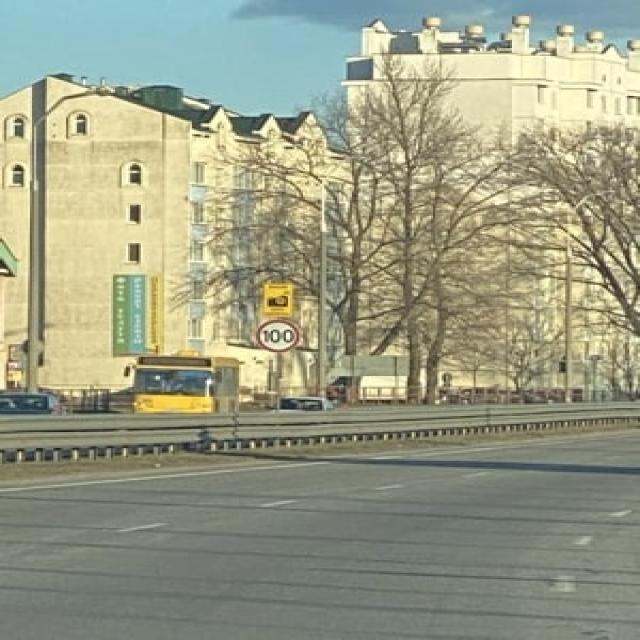Speed Limit -100-: (262, 329, 295, 344)
